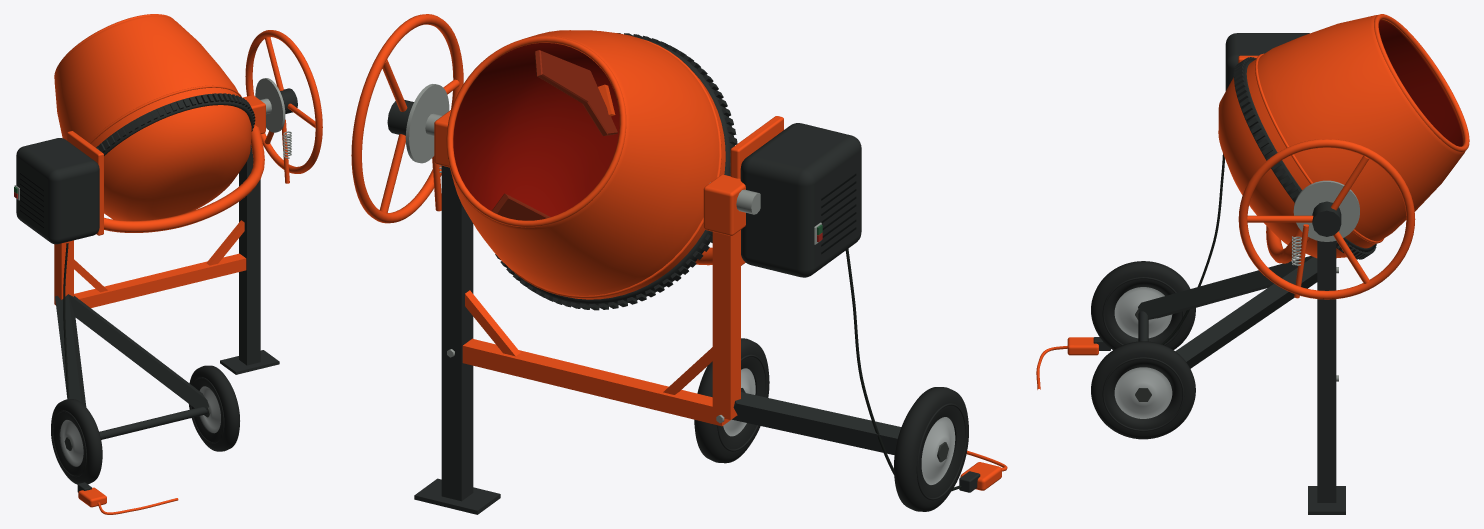
File: concrete-mixer.glb
3 views of the same model, side by side, from view 1: azimuth 30°, elevation 25°; view 2: azimuth 150°, elevation 25°; view 3: azimuth 270°, elevation 25° (orthographic). The views are drawn at different scales.
Parts seen in each view (by area): view 1: rolled-steel-drum-shell, electric-motor-cowling, front-upright, lower-orange-crossmember, rear-tripod-leg-0.1, curved-yoke, right-transport-wheel-rubber-carcass, left-transport-wheel-rubber-carcass, orange-tilt-handwheel, rear-tripod-leg-0.66, cast-ring-gear-band, rear-upright (+11 smaller); view 2: rolled-steel-drum-shell, electric-motor-cowling, front-upright, lower-orange-crossmember, right-transport-wheel-rubber-carcass, rear-upright, rear-tripod-leg-0.66, orange-tilt-handwheel, rolled-open-mouth, folded-mixing-fin (×2), left-transport-wheel-rubber-carcass, cast-ring-gear-band (+8 smaller); view 3: rolled-steel-drum-shell, left-transport-wheel-rubber-carcass, front-upright, orange-tilt-handwheel, right-transport-wheel-rubber-carcass, rear-tripod-leg-0.1, rear-tripod-leg-0.66, left-transport-wheel-pressed-rim, locking-quadrant, rolled-open-mouth, electric-motor-cowling, right-transport-wheel-pressed-rim (+9 smaller).
Part boxes in pixels (x1,y1,x2,y2): rolled-steel-drum-shell: [54, 15, 251, 220]; electric-motor-cowling: [16, 138, 99, 244]; front-upright: [239, 144, 260, 365]; lower-orange-crossmember: [74, 253, 246, 307]; rear-tripod-leg-0.1: [68, 294, 208, 414]; curved-yoke: [104, 125, 264, 232]; right-transport-wheel-rubber-carcass: [51, 399, 102, 484]; left-transport-wheel-rubber-carcass: [189, 365, 239, 451]; orange-tilt-handwheel: [245, 30, 322, 173]; rear-tripod-leg-0.66: [55, 294, 86, 406]; cast-ring-gear-band: [96, 93, 253, 155]; rear-upright: [54, 240, 73, 305]; rolled-steel-drum-shell: [448, 30, 725, 299]; electric-motor-cowling: [740, 123, 861, 277]; front-upright: [441, 165, 473, 501]; lower-orange-crossmember: [462, 338, 730, 426]; right-transport-wheel-rubber-carcass: [894, 387, 968, 511]; rear-upright: [712, 230, 740, 419]; rear-tripod-leg-0.66: [732, 392, 901, 455]; orange-tilt-handwheel: [351, 14, 463, 223]; rolled-open-mouth: [446, 36, 626, 227]; folded-mixing-fin (×2): [492, 50, 617, 220]; left-transport-wheel-rubber-carcass: [694, 338, 769, 463]; cast-ring-gear-band: [510, 38, 734, 305]; rolled-steel-drum-shell: [1218, 15, 1465, 258]; left-transport-wheel-rubber-carcass: [1091, 341, 1195, 439]; front-upright: [1317, 240, 1336, 502]; orange-tilt-handwheel: [1238, 139, 1415, 299]; right-transport-wheel-rubber-carcass: [1091, 261, 1195, 349]; rear-tripod-leg-0.1: [1175, 257, 1317, 368]; rear-tripod-leg-0.66: [1138, 256, 1312, 319]; left-transport-wheel-pressed-rim: [1114, 367, 1172, 418]; locking-quadrant: [1293, 180, 1359, 241]; rolled-open-mouth: [1374, 14, 1469, 151]; electric-motor-cowling: [1225, 33, 1309, 90]; right-transport-wheel-pressed-rim: [1114, 287, 1172, 338].
Bounding box in the file's own units: 1.35 × 1.49 × 1.37.
